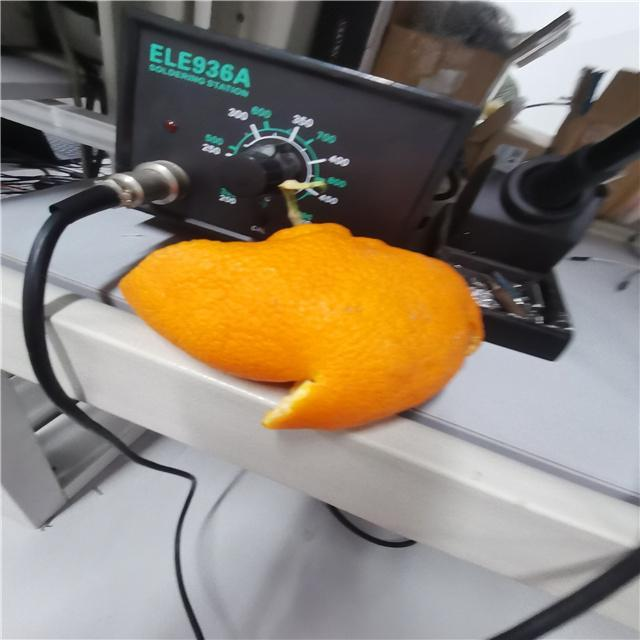orange-peel: (116, 219, 486, 432)
